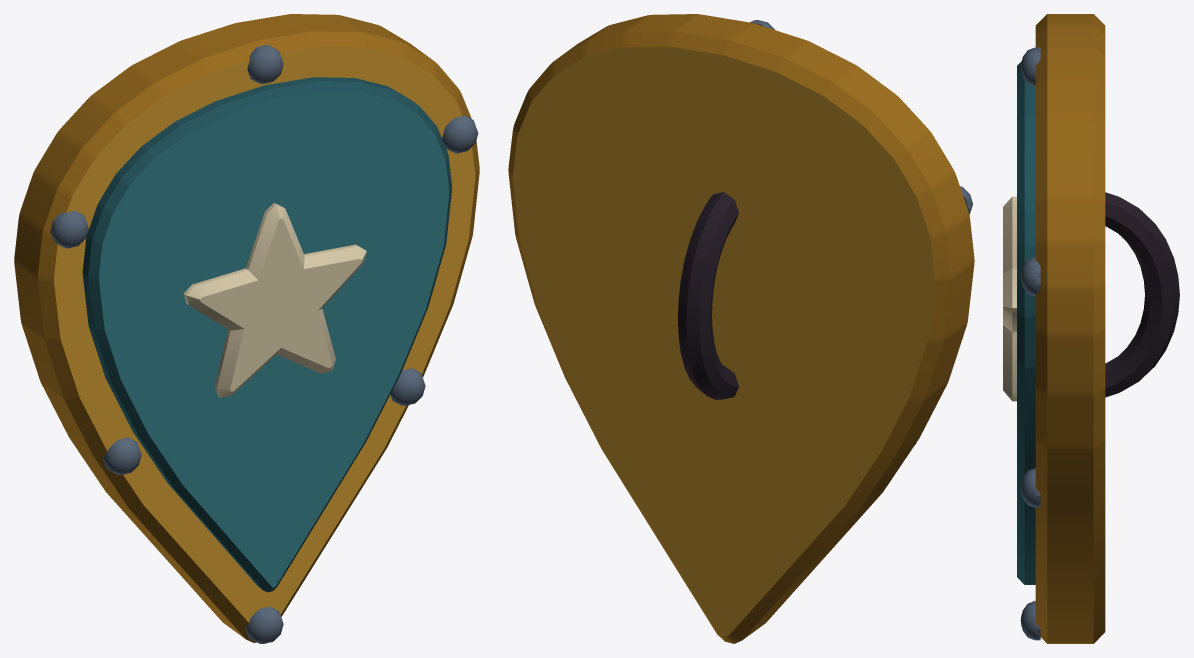
Rendered from KiteShield_10.glb.
The picture shows the model from 3 angles, left to right: view 1: azimuth 30°, elevation 25°; view 2: azimuth 150°, elevation 25°; view 3: azimuth 270°, elevation 25°; orthographic projection.
Parts seen in each view (by area): view 1: KiteShield_10; view 2: KiteShield_10; view 3: KiteShield_10.
Boxes of the visible parts, x1,y1,x2,y2 form: KiteShield_10: [14, 14, 479, 643]; KiteShield_10: [508, 14, 974, 643]; KiteShield_10: [1003, 14, 1179, 643].
Bounding box in the file's own units: 2.17 × 2.82 × 0.76.
